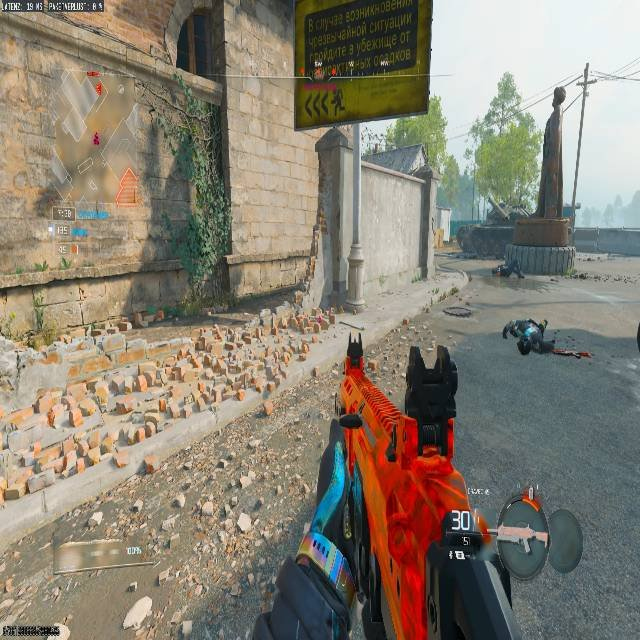head: (515, 337, 532, 355)
